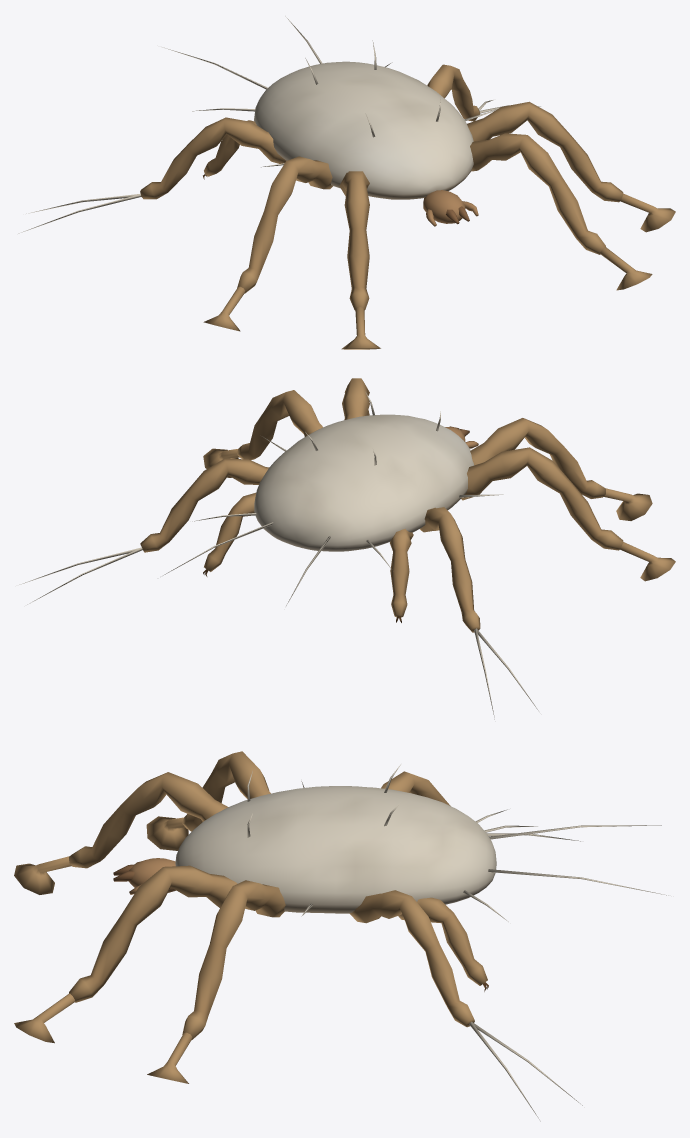
The model's file is EarMite.fbx.
3 views of the same model, one above another, from view 1: azimuth 30°, elevation 25°; view 2: azimuth 150°, elevation 25°; view 3: azimuth 270°, elevation 25° (orthographic). The views are drawn at different scales.
Visible parts, largest first — view 1: EarMite; view 2: EarMite; view 3: EarMite.
Boxes of the visible parts, x1,y1,x2,y2 form: EarMite: (18,16,675,349); EarMite: (19,378,675,719); EarMite: (14,751,668,1121).
Bounding box in the file's own units: 1.97 × 0.5973 × 1.85.
